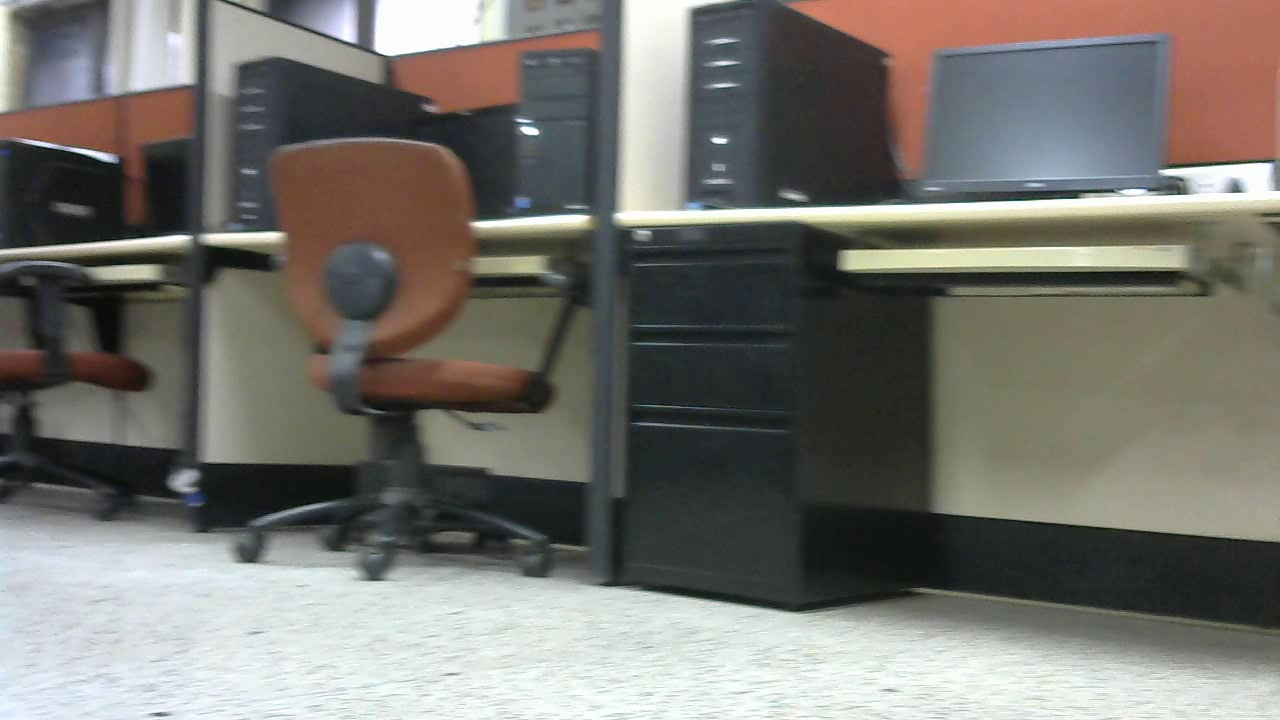chair: (223, 134, 591, 591)
